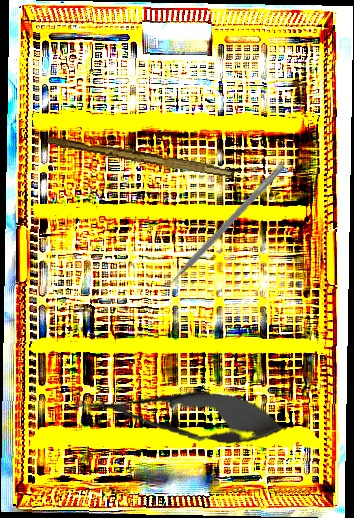Micro Scissor: (70, 376, 290, 453)
Scalpel Handle: (46, 135, 236, 178)
Spatula Surgical: (158, 158, 286, 294)
